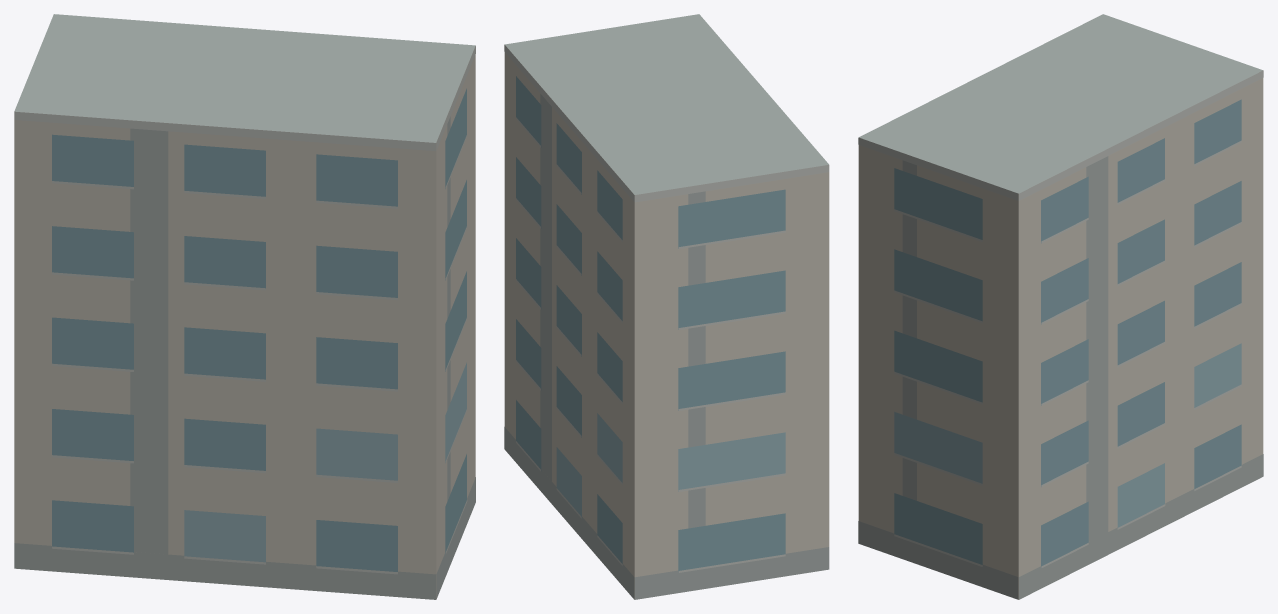
File: survey-upis-32803359.glb
3 views of the same model, side by side, from view 1: azimuth 30°, elevation 25°; view 2: azimuth 150°, elevation 25°; view 3: azimuth 270°, elevation 25° (orthographic). The views are drawn at different scales.
Parts seen in each view (by area): view 1: survey-upis-32803359.tmp; view 2: survey-upis-32803359.tmp; view 3: survey-upis-32803359.tmp.
Part boxes in pixels (left/top/right/bottom): survey-upis-32803359.tmp: left=14, top=14, right=475, bottom=599; survey-upis-32803359.tmp: left=504, top=14, right=829, bottom=599; survey-upis-32803359.tmp: left=858, top=14, right=1263, bottom=599.
Size of the model in its own units: 12.81 by 13.5 by 12.2.
